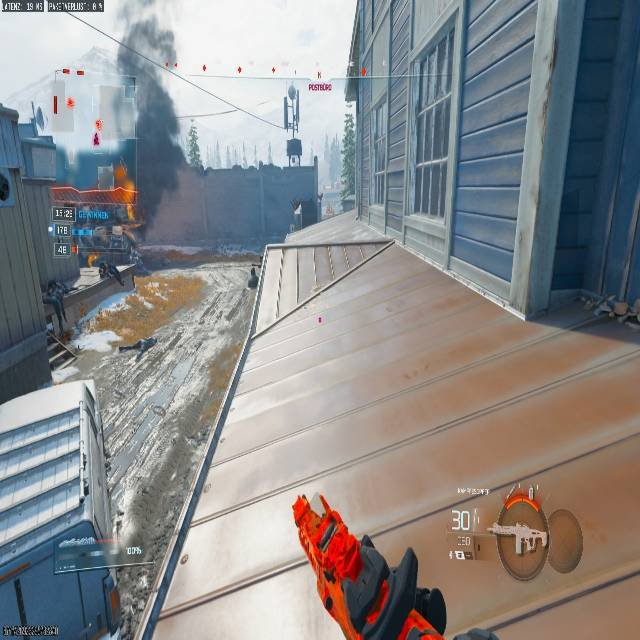head: (48, 280, 57, 290)
player: (84, 224, 142, 287), (42, 278, 69, 344)
